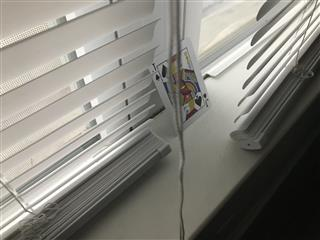JackOfSpades: (148, 38, 211, 134)
